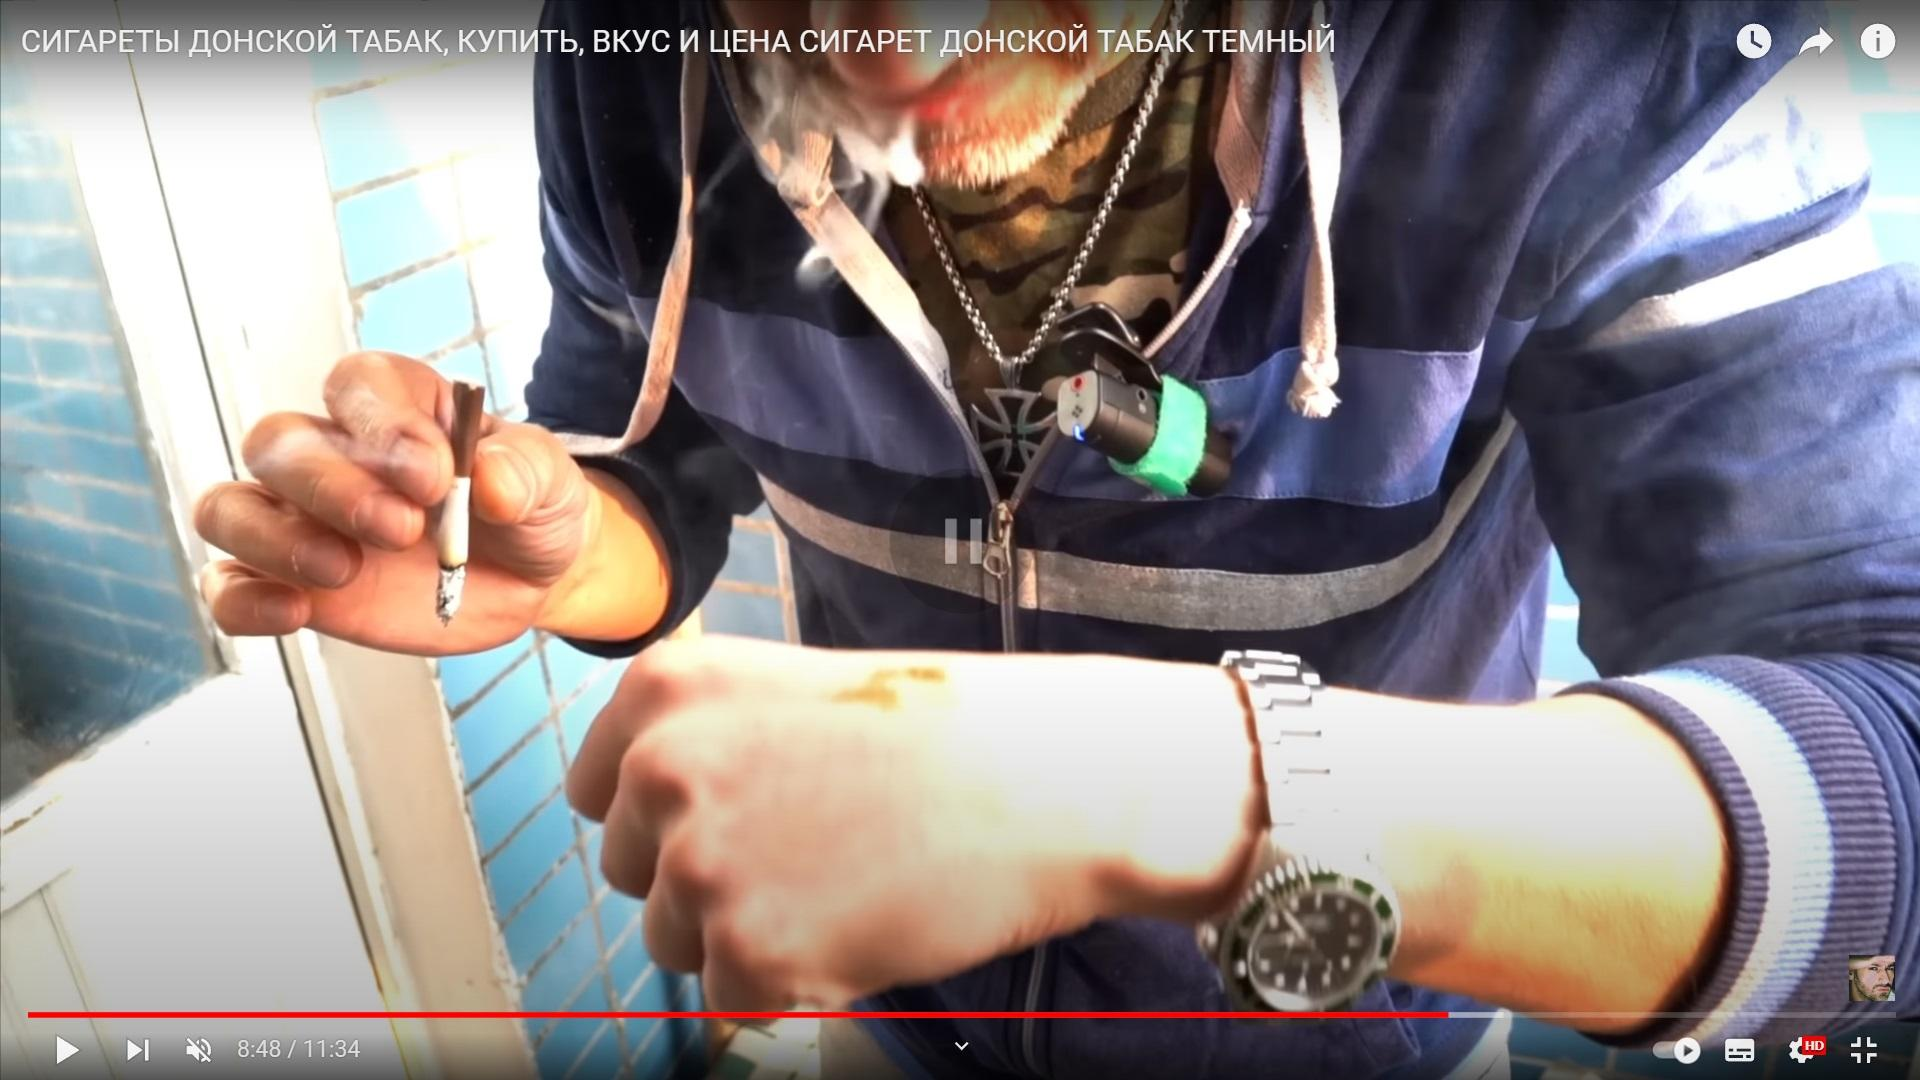cigarette: (435, 378, 484, 622)
